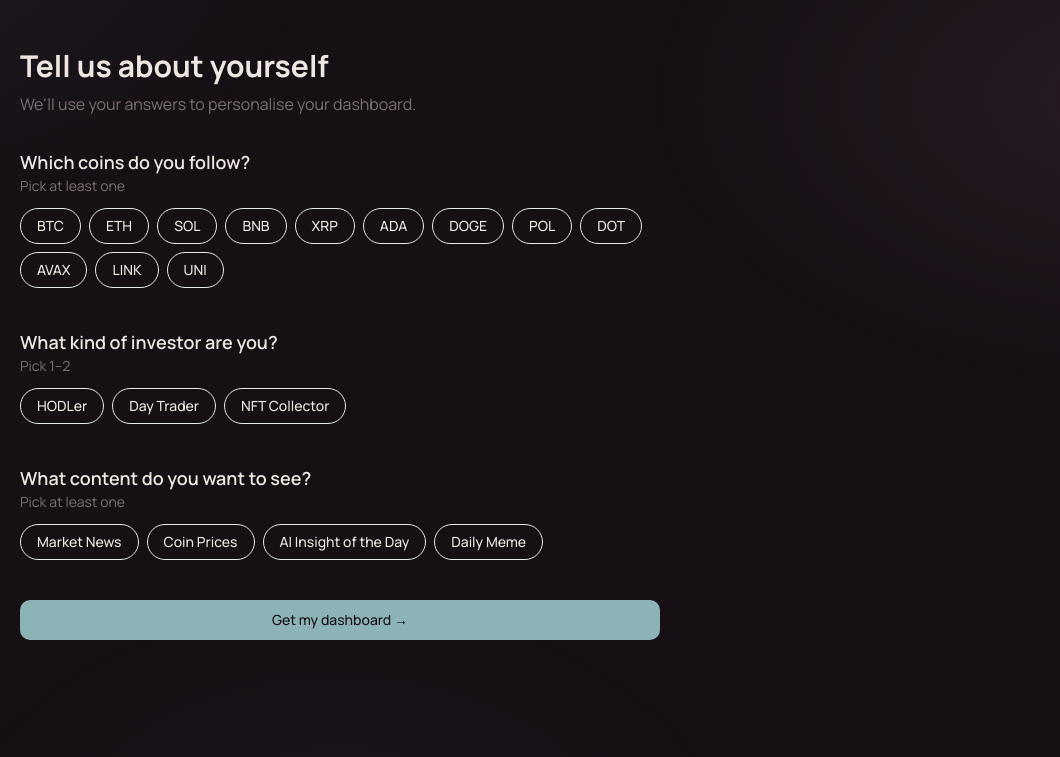
OnboardingPage form validation › shows validation error when no coins are selected
Click the button "Get my dashboard →".
click(340, 620)  # box [20,600,660,640]
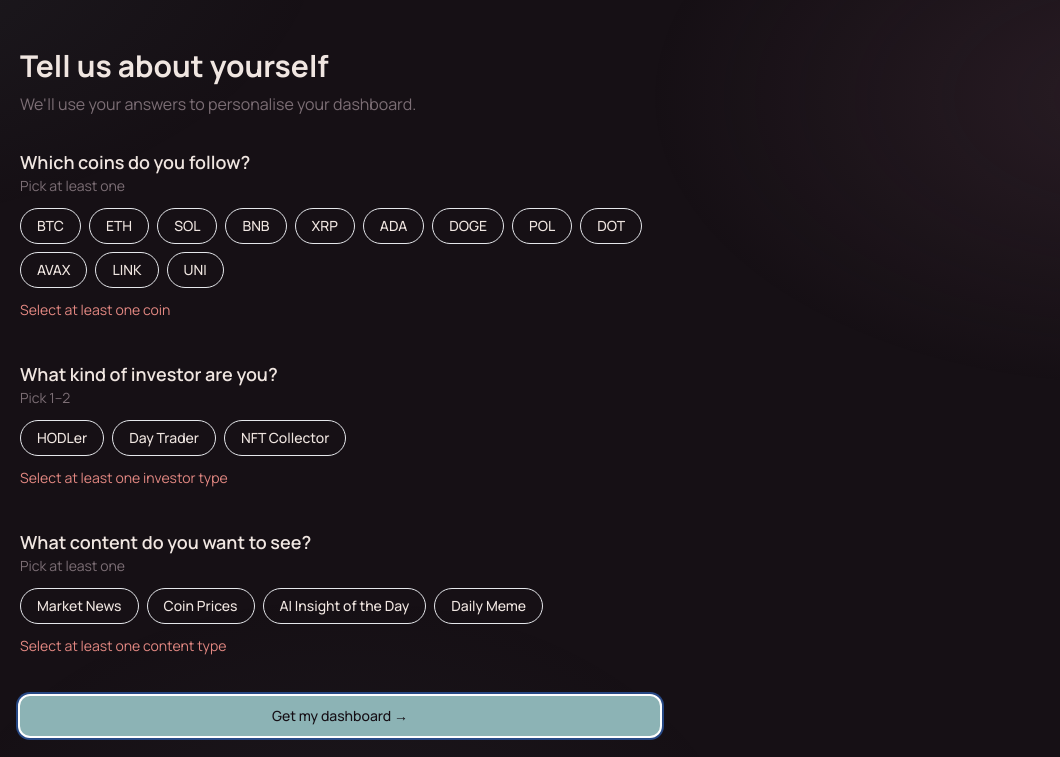
Now the text "Select at least one coin" is shown, box [20,300,170,319]
